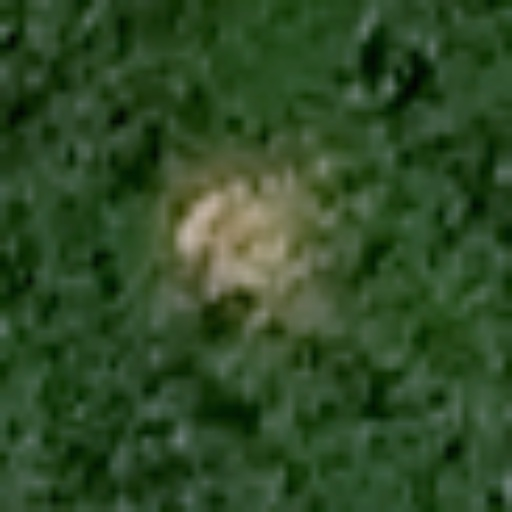landslide: (179, 173, 321, 301)
